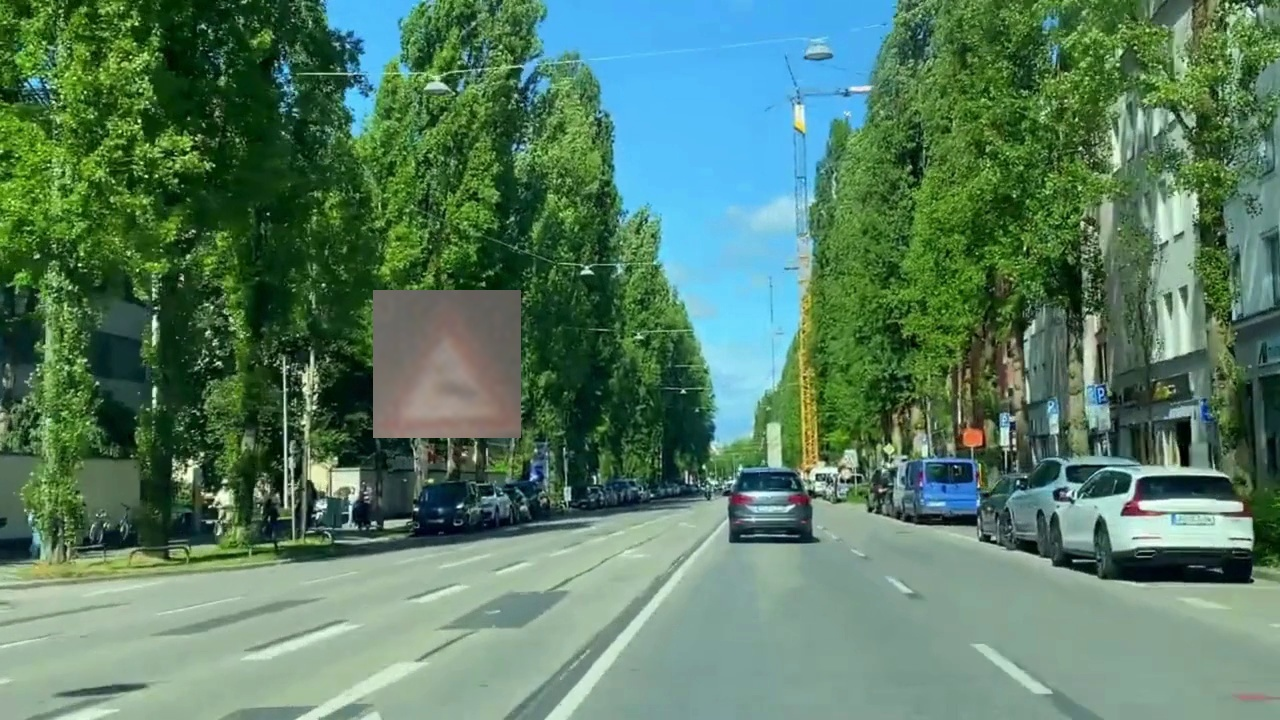Wild animals: (373, 290, 521, 438)
